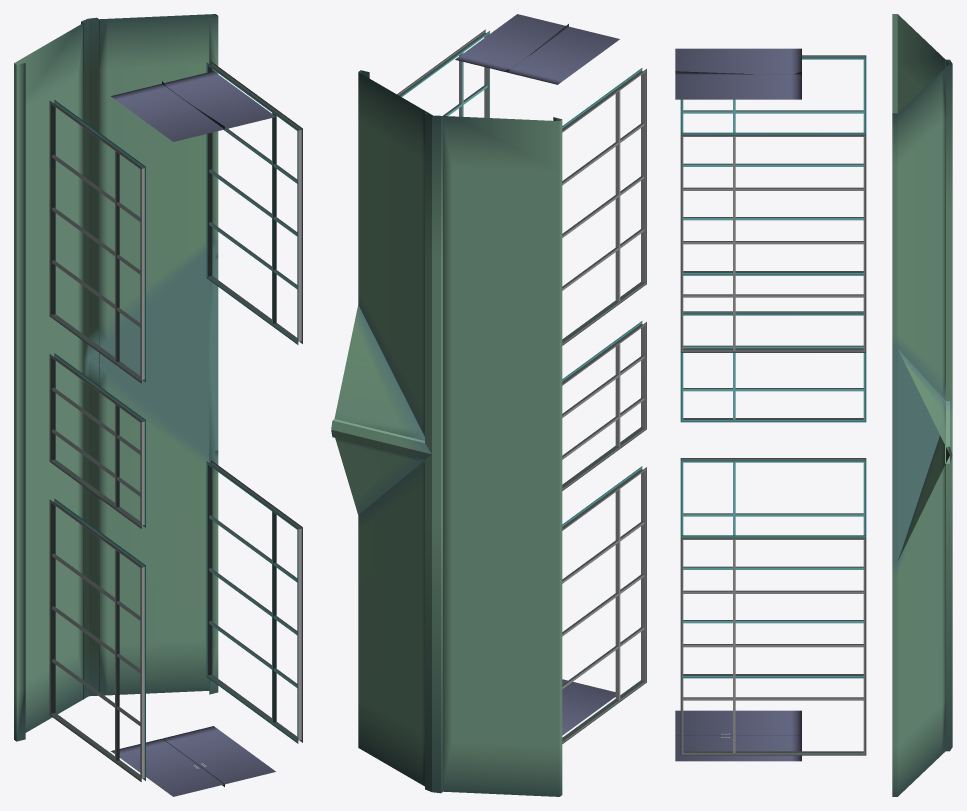
The model's file is SM_000231_w40h003_001roka_metal01_1.fbx.
3 views of the same model, side by side, from view 1: azimuth 30°, elevation 25°; view 2: azimuth 150°, elevation 25°; view 3: azimuth 270°, elevation 25° (orthographic).
Visible parts, largest first — view 1: SM_000231.001; view 2: SM_000231.001; view 3: SM_000231.001.
Part boxes in pixels (x1=…): SM_000231.001: x1=14, y1=14, x2=302, y2=796; SM_000231.001: x1=331, y1=14, x2=646, y2=796; SM_000231.001: x1=675, y1=14, x2=952, y2=796.
Size of the model in its own units: 4.5 by 14.42 by 5.3.
